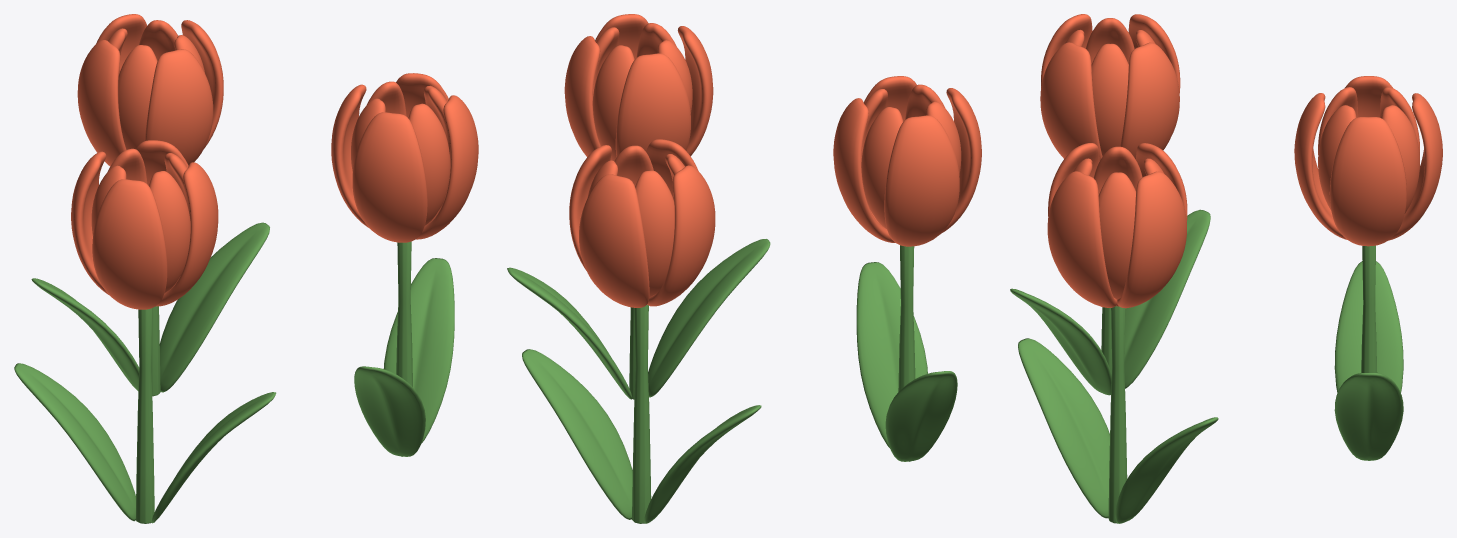
Rendered from Flower_Tulip.glb.
3 renders of one model, left to right at view 1: azimuth 30°, elevation 25°; view 2: azimuth 150°, elevation 25°; view 3: azimuth 270°, elevation 25°, orthographic.
Visible parts, largest first — view 1: Tulip.002; view 2: Tulip.002; view 3: Tulip.002.
Boxes of the visible parts, box(x1,y1,x2,y2) form: Tulip.002: box(14, 14, 478, 523); Tulip.002: box(507, 14, 981, 523); Tulip.002: box(1010, 14, 1442, 523).
Size of the model in its own units: 4.43 by 3.49 by 3.79.
